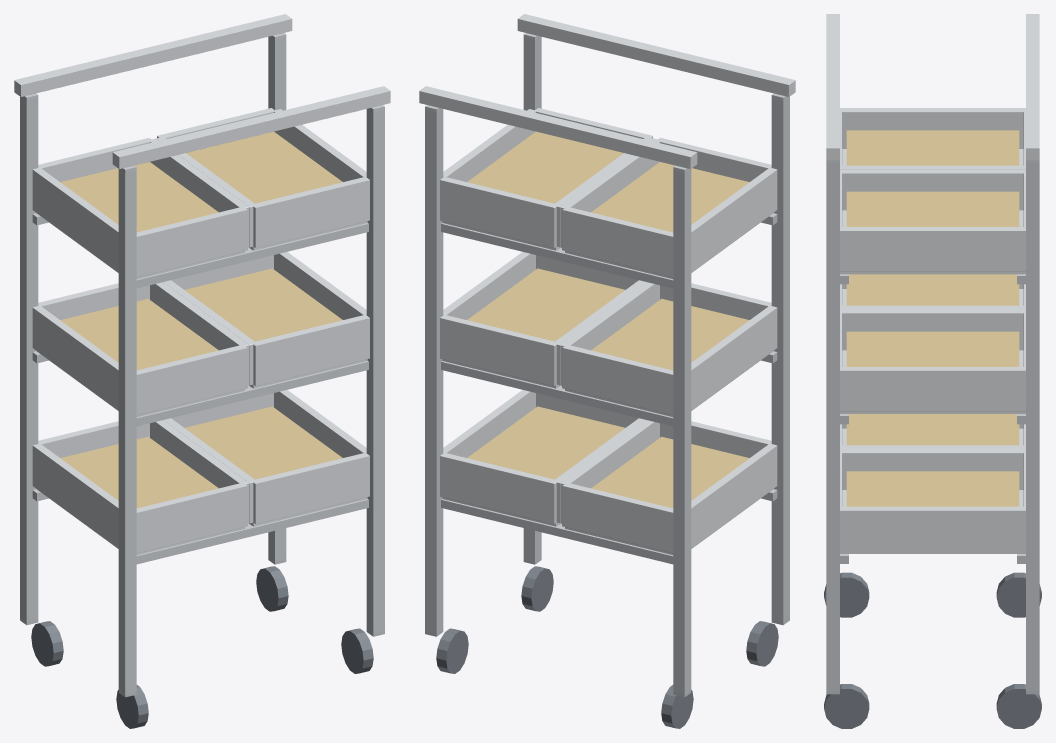
File: env_pancart.glb
3 renders of one model, left to right at view 1: azimuth 30°, elevation 25°; view 2: azimuth 150°, elevation 25°; view 3: azimuth 270°, elevation 25°, orthographic.
Parts seen in each view (by area): view 1: EnvPanCart_00, EnvPanCart_02, EnvPanCart_01, EnvPanCart_33, EnvPanCart_19, EnvPanCart_47, EnvPanCart_04, EnvPanCart_05, EnvPanCart_18, EnvPanCart_32, EnvPanCart_46, EnvPanCart_12 (+31 smaller); view 2: EnvPanCart_01, EnvPanCart_03, EnvPanCart_00, EnvPanCart_33, EnvPanCart_19, EnvPanCart_47, EnvPanCart_04, EnvPanCart_05, EnvPanCart_17, EnvPanCart_31, EnvPanCart_45, EnvPanCart_11 (+31 smaller); view 3: EnvPanCart_15, EnvPanCart_29, EnvPanCart_43, EnvPanCart_02, EnvPanCart_03, EnvPanCart_19, EnvPanCart_41, EnvPanCart_33, EnvPanCart_47, EnvPanCart_27, EnvPanCart_13, EnvPanCart_30 (+15 smaller).
Part boxes in pixels (x1,y1,x2,y2): EnvPanCart_00: (118, 165, 136, 697); EnvPanCart_02: (366, 105, 384, 636); EnvPanCart_01: (20, 93, 38, 625); EnvPanCart_33: (185, 268, 342, 341); EnvPanCart_19: (185, 406, 342, 479); EnvPanCart_47: (186, 131, 342, 203); EnvPanCart_04: (112, 86, 390, 168); EnvPanCart_05: (14, 14, 292, 96); EnvPanCart_18: (252, 452, 369, 524); EnvPanCart_32: (252, 314, 369, 386); EnvPanCart_46: (252, 177, 369, 248); EnvPanCart_12: (136, 483, 247, 553); EnvPanCart_01: (673, 165, 691, 697); EnvPanCart_03: (425, 105, 443, 636); EnvPanCart_00: (771, 93, 789, 625); EnvPanCart_33: (467, 268, 624, 341); EnvPanCart_19: (467, 406, 624, 479); EnvPanCart_47: (467, 131, 623, 203); EnvPanCart_04: (517, 14, 795, 96); EnvPanCart_05: (419, 86, 697, 168); EnvPanCart_17: (440, 452, 557, 524); EnvPanCart_31: (440, 314, 557, 386); EnvPanCart_45: (440, 177, 556, 248); EnvPanCart_11: (562, 483, 673, 553); EnvPanCart_15: (840, 506, 1025, 551); EnvPanCart_29: (840, 367, 1025, 411); EnvPanCart_43: (840, 227, 1025, 271); EnvPanCart_02: (826, 160, 839, 694); EnvPanCart_03: (1026, 160, 1039, 694); EnvPanCart_19: (846, 471, 1019, 506); EnvPanCart_41: (846, 130, 1019, 165); EnvPanCart_33: (846, 331, 1019, 366); EnvPanCart_47: (846, 191, 1019, 226); EnvPanCart_27: (846, 274, 1019, 305); EnvPanCart_13: (846, 414, 1019, 445); EnvPanCart_30: (840, 309, 1025, 350).
Size of the model in its own units: 0.7 by 1.43 by 0.48.
